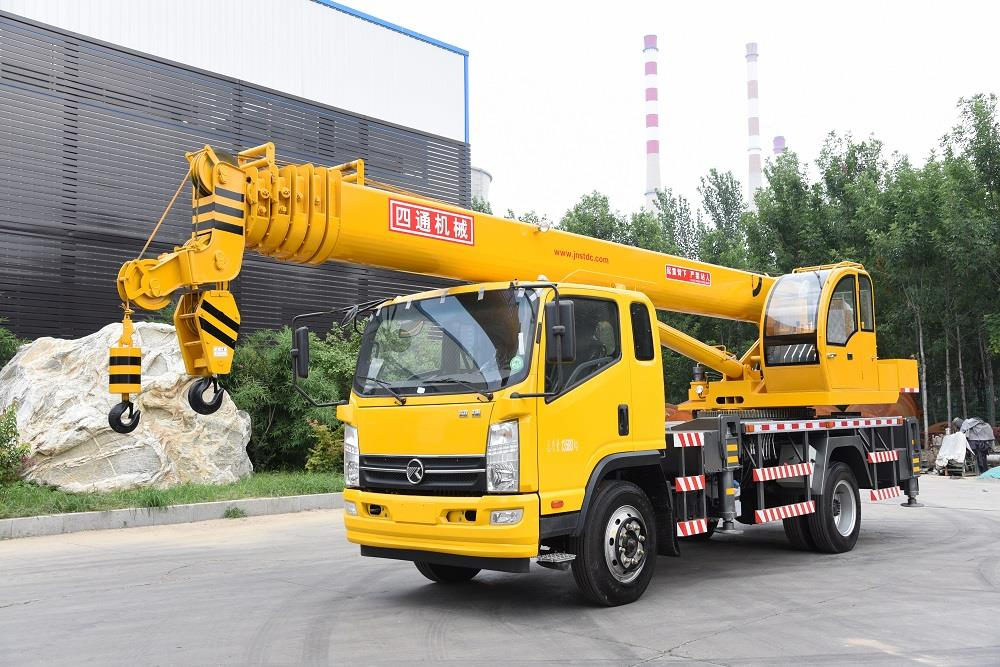crane: (86, 147, 934, 605)
